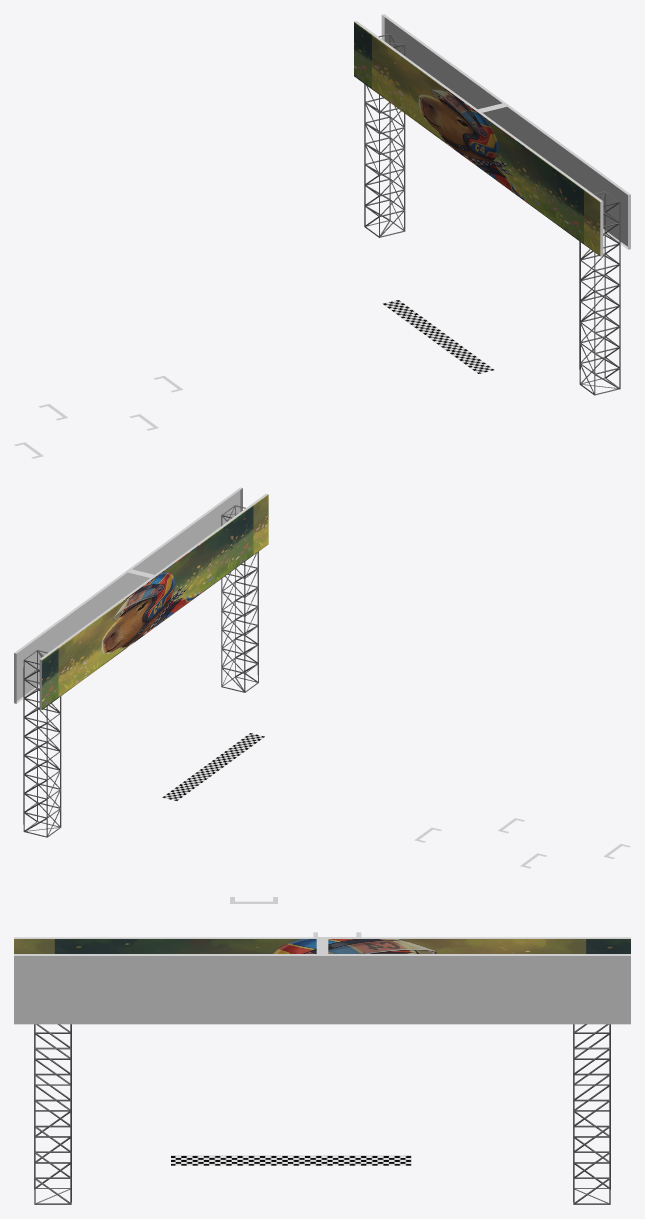
The model's file is start_line.glb.
3 renders of one model, top to bottom at view 1: azimuth 30°, elevation 25°; view 2: azimuth 150°, elevation 25°; view 3: azimuth 270°, elevation 25°, orthographic. The views are drawn at different scales.
Parts seen in each view (by area): view 1: starting line banner, starting line pole, start_finish_line; view 2: starting line banner, starting line pole, start_finish_line; view 3: starting line banner, starting line pole, start_finish_line.
Part boxes in pixels (x1=…): starting line banner: x1=354, y1=14, x2=630, y2=256; starting line pole: x1=364, y1=33, x2=620, y2=395; start_finish_line: x1=382, y1=300, x2=493, y2=373; starting line banner: x1=14, y1=487, x2=268, y2=709; starting line pole: x1=23, y1=505, x2=258, y2=837; start_finish_line: x1=162, y1=733, x2=264, y2=800; starting line banner: x1=14, y1=937, x2=630, y2=1024; starting line pole: x1=34, y1=1024, x2=610, y2=1204; start_finish_line: x1=171, y1=1155, x2=411, y2=1165.
Size of the model in its own units: 13.34 by 5.07 by 11.13.
Materials: 5 (2 with a texture image).
